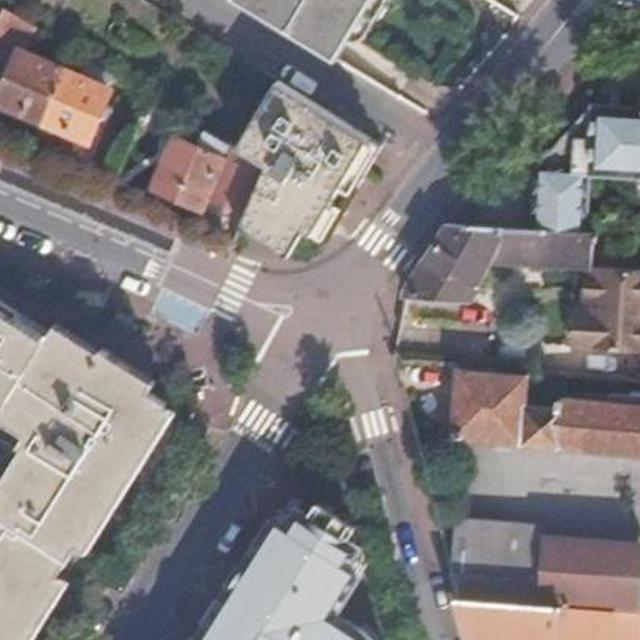passage_pieton: (365, 216, 429, 246), (250, 396, 310, 427), (345, 419, 399, 449), (233, 260, 262, 309)
